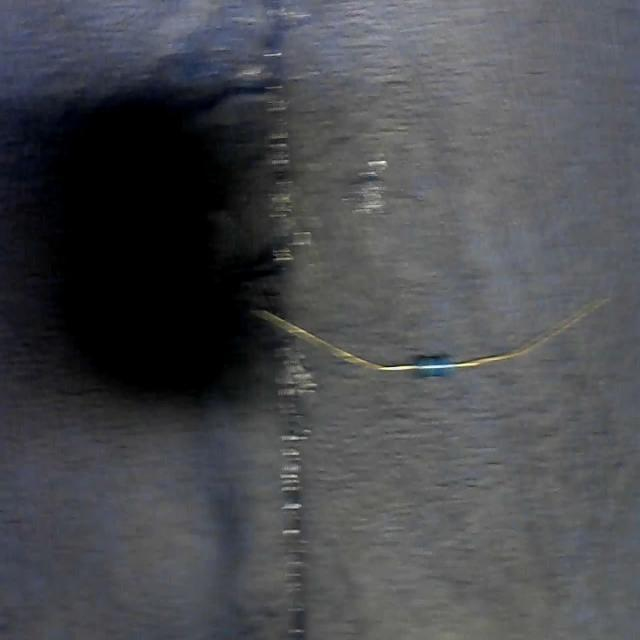resistor: (253, 304, 607, 384)
